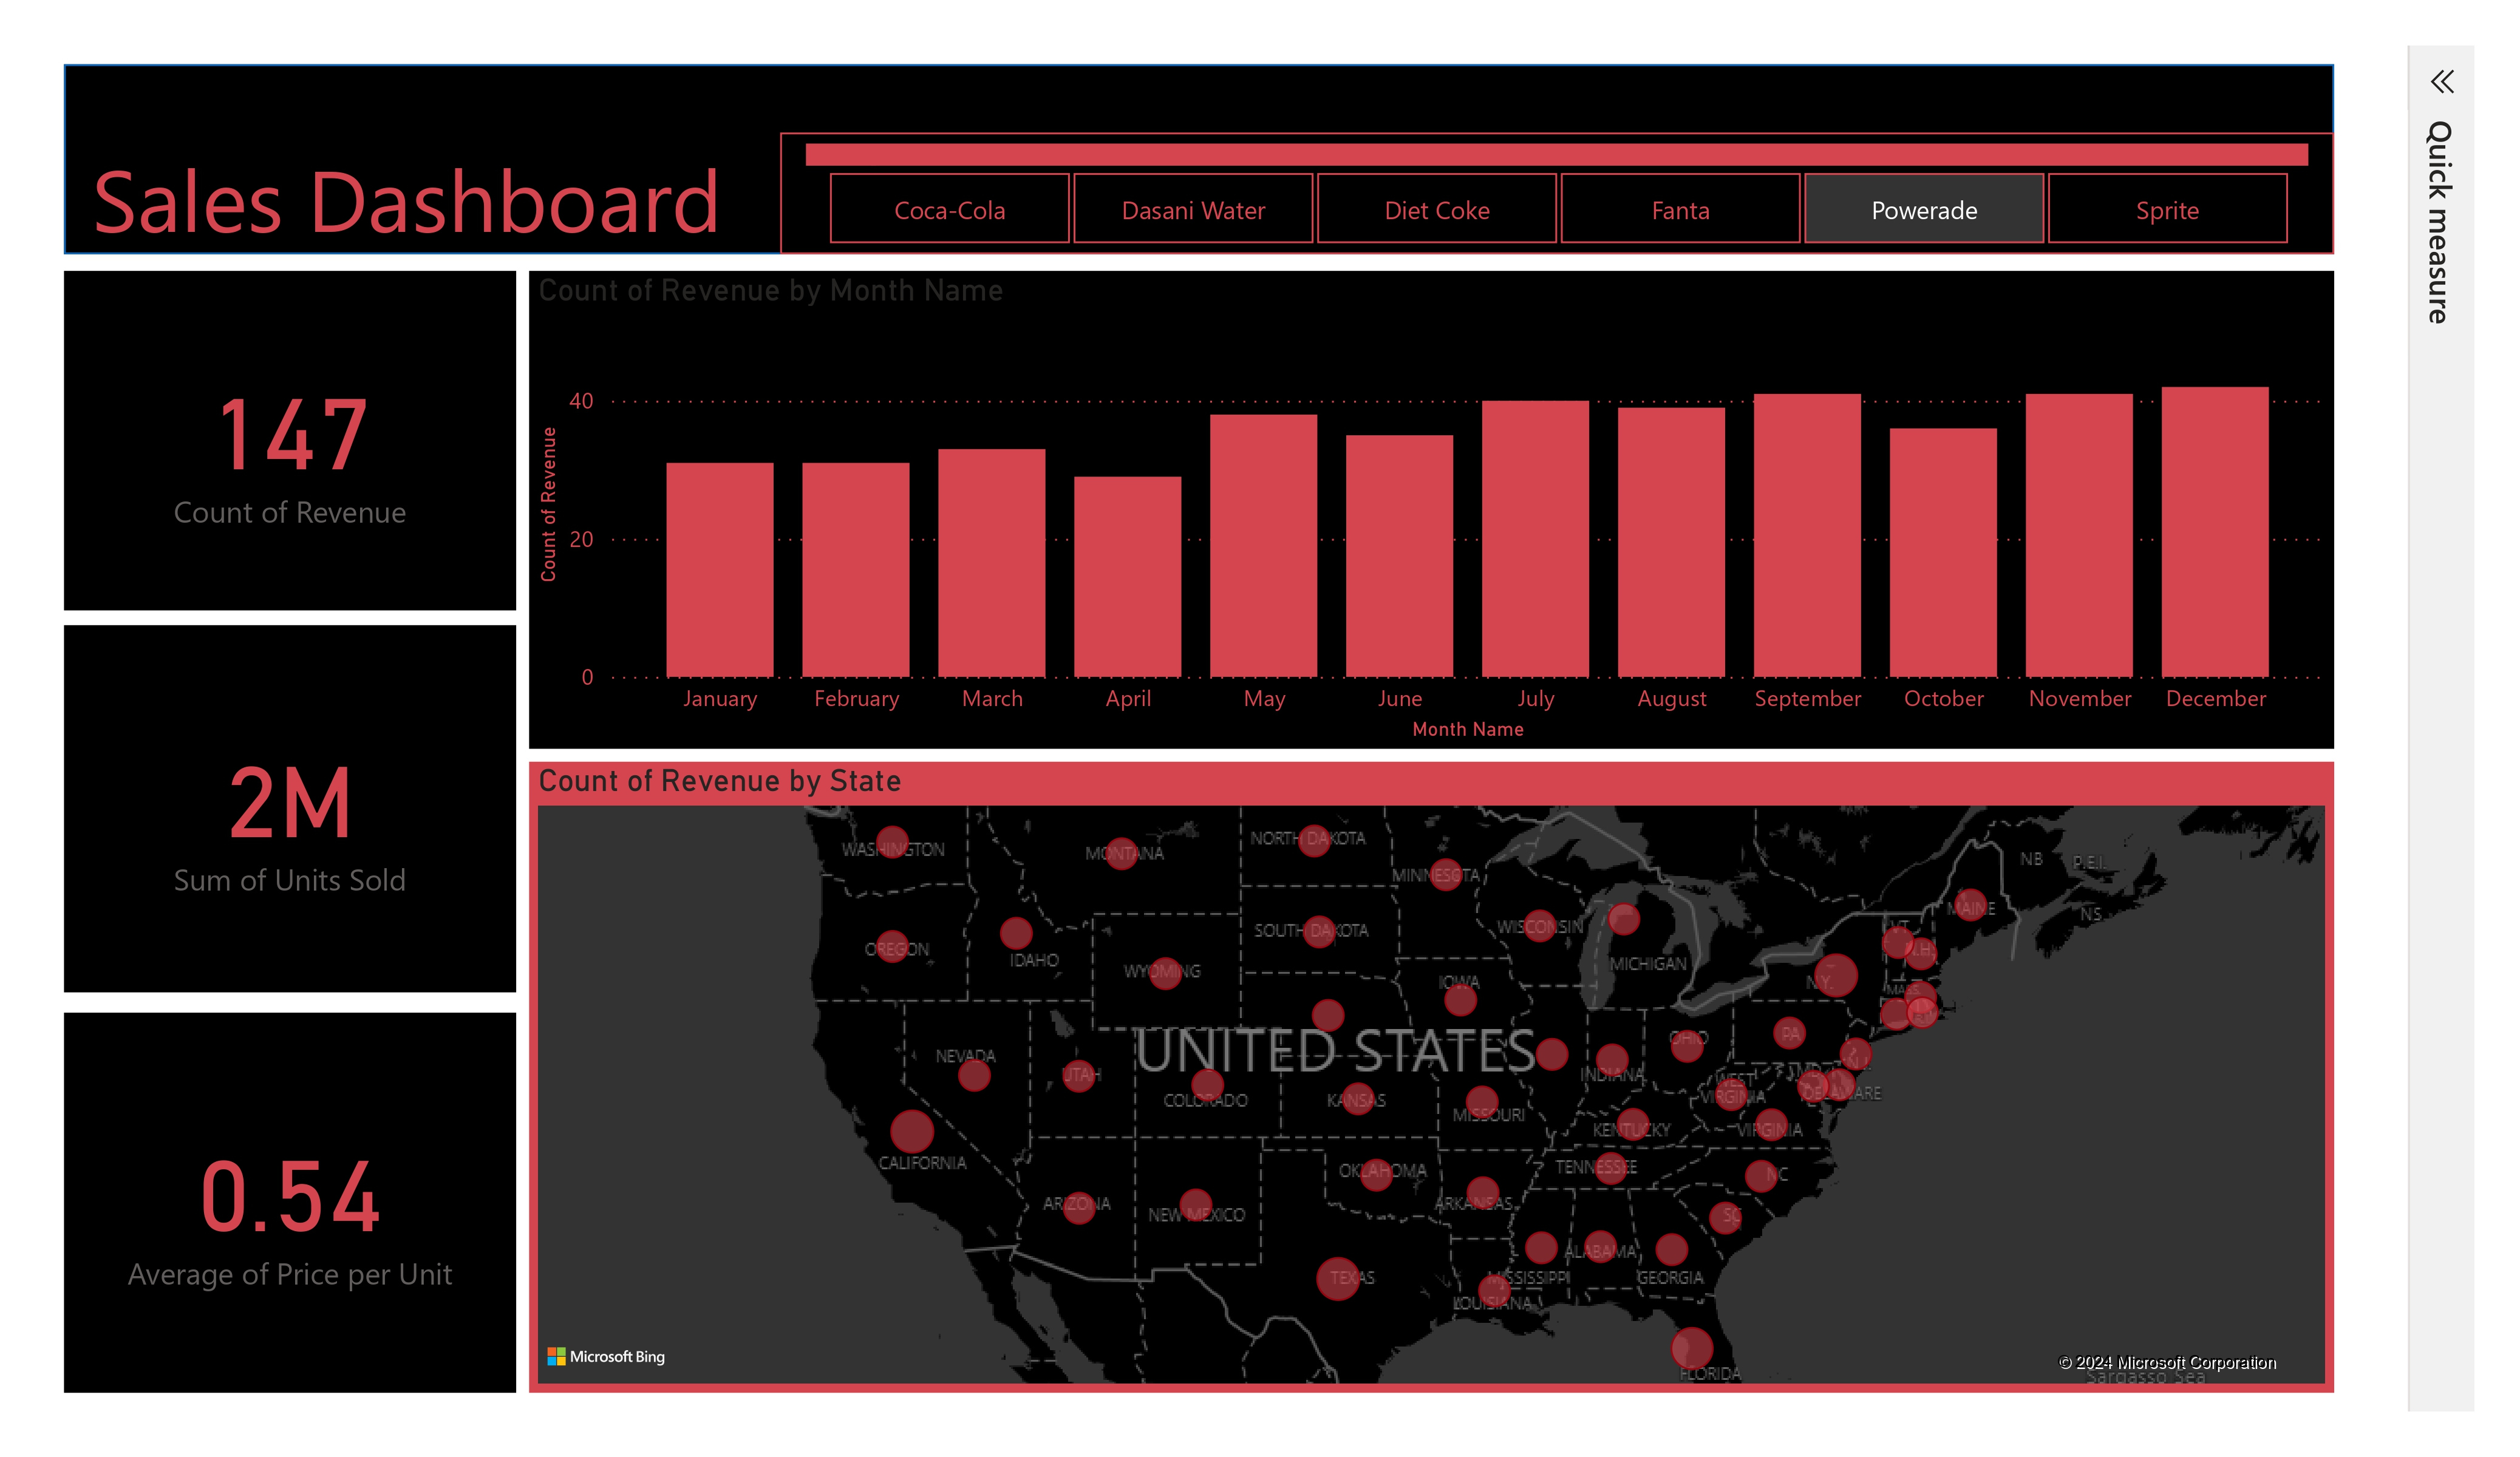

What the dashboard file says about the page in this screenshot:
{"tool":"powerbi","page":{"name":"Page 1","canvas":[1280,720],"ordinal":0},"visuals":[{"type":"shape","box":[10,0,1230,102.9],"z":0},{"type":"card","fields":{"Values":["Count(Data.Revenue)"]},"box":[10,111.9,244.8,183.9],"z":1000},{"type":"card","fields":{"Values":["Avg(Data.Price per Unit)"]},"box":[10,513.6,244.8,206.8],"z":2000},{"type":"card","fields":{"Values":["Sum(Data.Units Sold)"]},"box":[10,303.8,244.8,198.8],"z":3000},{"type":"columnChart","fields":{"Category":["Data.Month Name"],"Y":["Count(Data.Revenue)"]},"box":[261.8,111.9,978.2,258.8],"z":4000},{"type":"map","fields":{"Category":["Data.State"],"Size":["CountNonNull(Data.Revenue)"]},"box":[261.8,377.7,978.2,342.7],"z":5000},{"type":"slicer","fields":{"Values":["Data.Beverage Brand"]},"box":[397.7,37,842.3,65.9],"z":6000}]}

Visuals, with their boxes in screenshot pixels (x1, y1, x2, y2):
shape: box=[52, 52, 2355, 245]
card - Count(Data.Revenue): box=[52, 262, 510, 606]
card - Avg(Data.Price per Unit): box=[52, 1014, 510, 1401]
card - Sum(Data.Units Sold): box=[52, 621, 510, 993]
columnChart - Data.Month Name x Count(Data.Revenue): box=[523, 262, 2355, 747]
map - Data.State x CountNonNull(Data.Revenue): box=[523, 759, 2355, 1401]
slicer - Data.Beverage Brand: box=[778, 122, 2355, 245]
